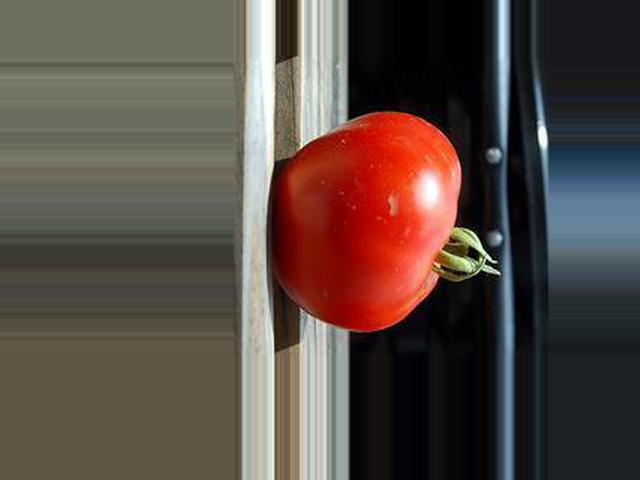tomato: (274, 112, 498, 331)
